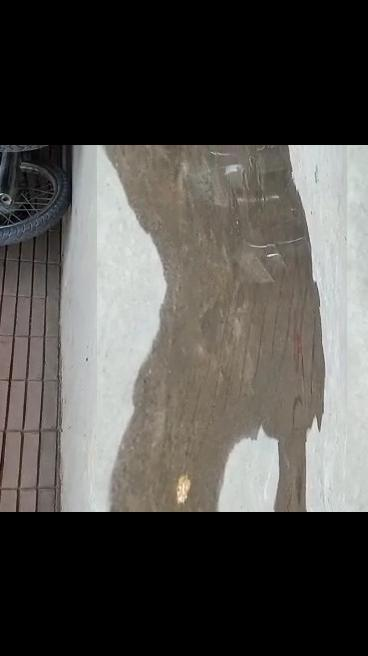water accumulation: (100, 144, 327, 512)
